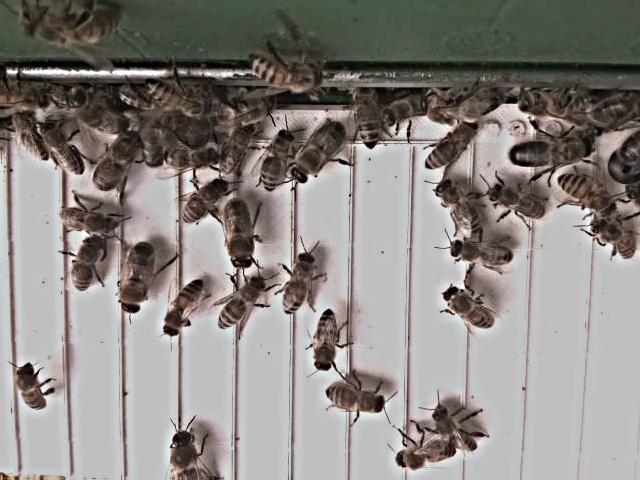Drone: (286, 120, 346, 188), (506, 131, 598, 173), (90, 127, 145, 196), (114, 240, 157, 317), (218, 196, 258, 274)
Worker: (214, 275, 265, 333), (161, 276, 205, 341), (36, 121, 84, 179), (421, 122, 474, 174), (434, 180, 482, 237), (440, 284, 494, 333), (430, 406, 486, 453), (558, 173, 616, 217), (280, 252, 315, 320), (446, 239, 516, 273), (216, 124, 258, 180), (487, 183, 546, 222), (66, 235, 104, 295), (258, 133, 294, 196), (179, 180, 227, 225), (589, 220, 636, 265), (391, 440, 455, 473), (350, 88, 382, 153), (322, 384, 385, 416), (309, 309, 338, 377), (56, 205, 118, 236), (160, 145, 219, 175), (17, 369, 47, 418)
